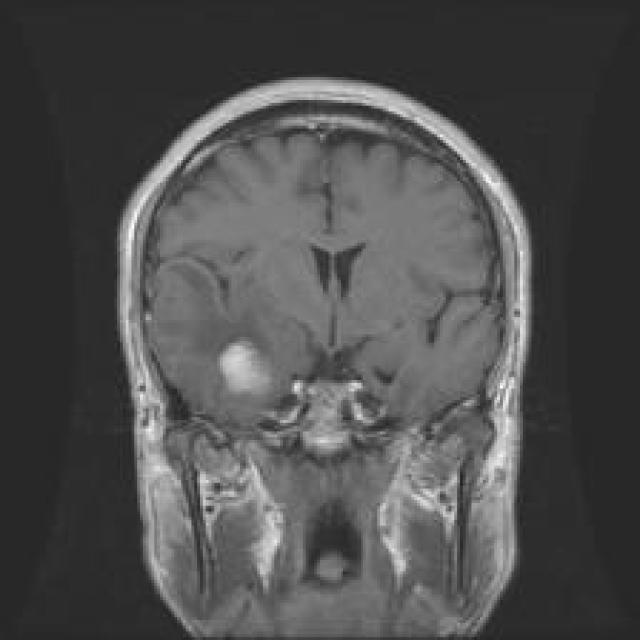meningioma_tumor: (206, 322, 284, 408)
